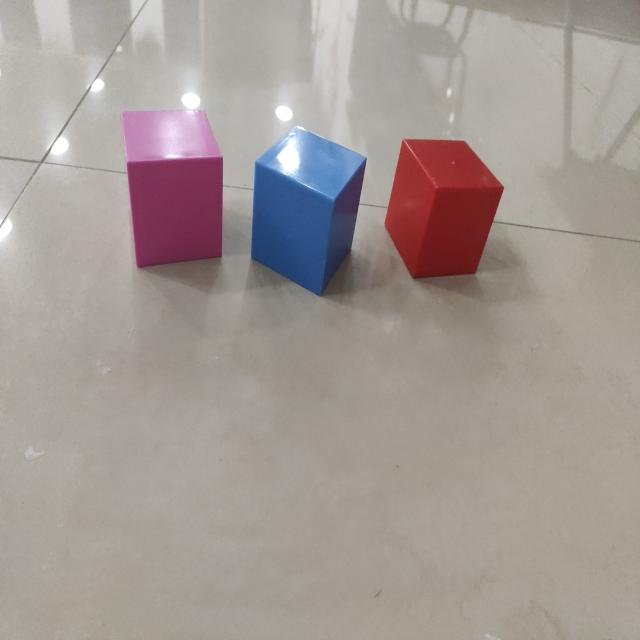blue: (250, 127, 367, 297)
pink: (120, 106, 225, 269)
red: (384, 139, 504, 281)
